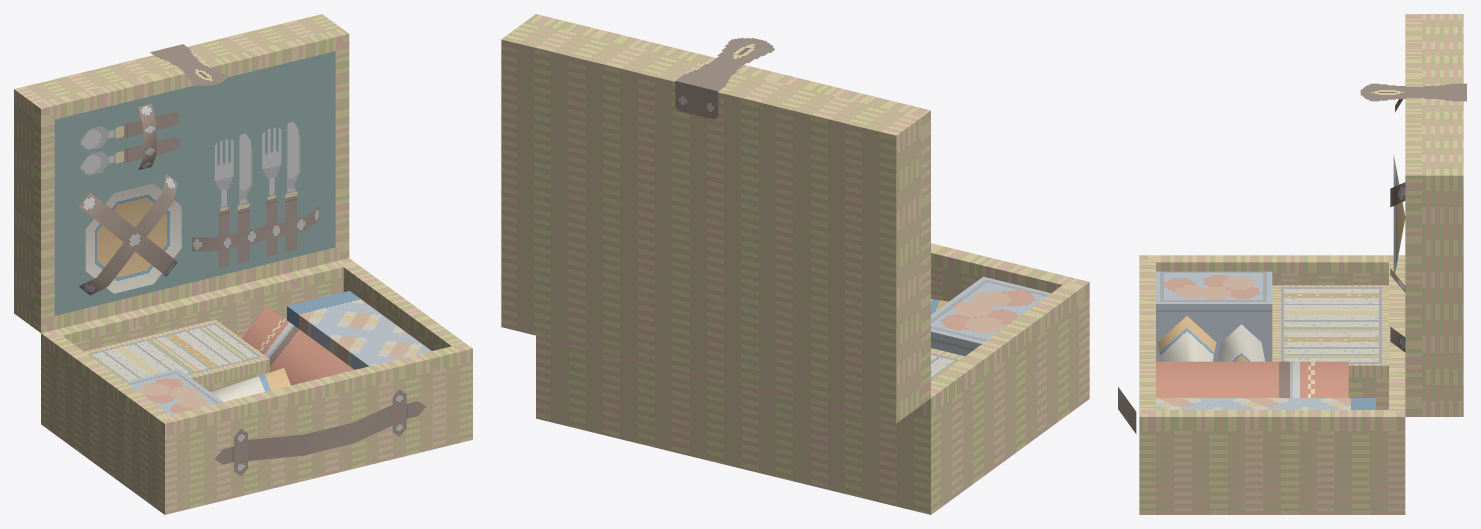
Rendered from 015b_Picnic_Basket.glb.
3 views of the same model, side by side, from view 1: azimuth 30°, elevation 25°; view 2: azimuth 150°, elevation 25°; view 3: azimuth 270°, elevation 25° (orthographic). The views are drawn at different scales.
Parts seen in each view (by area): view 1: part_0; view 2: part_0; view 3: part_0.
Boxes of the visible parts, left/top/right/bottom form: part_0: left=14, top=14, right=472, bottom=514; part_0: left=501, top=14, right=1089, bottom=514; part_0: left=1118, top=14, right=1466, bottom=514.
Size of the model in its own units: 0.644 by 0.6345 by 0.5873.
Materials: 1 (1 with a texture image).
